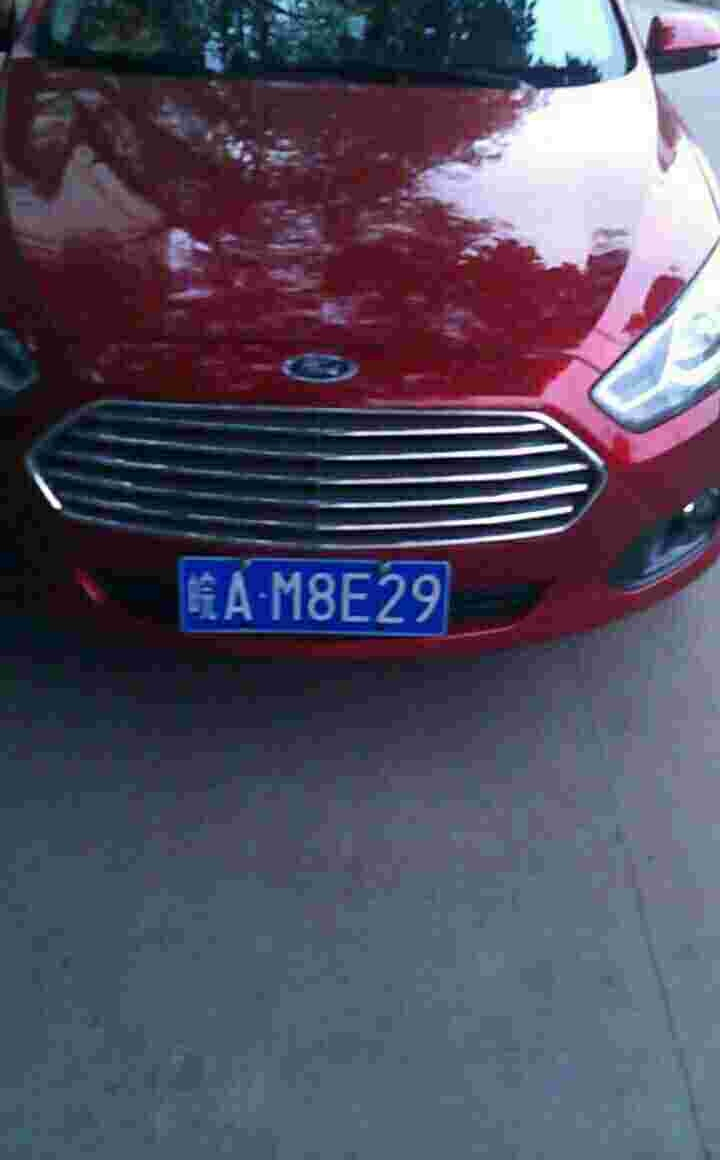car: (197, 559, 457, 646)
